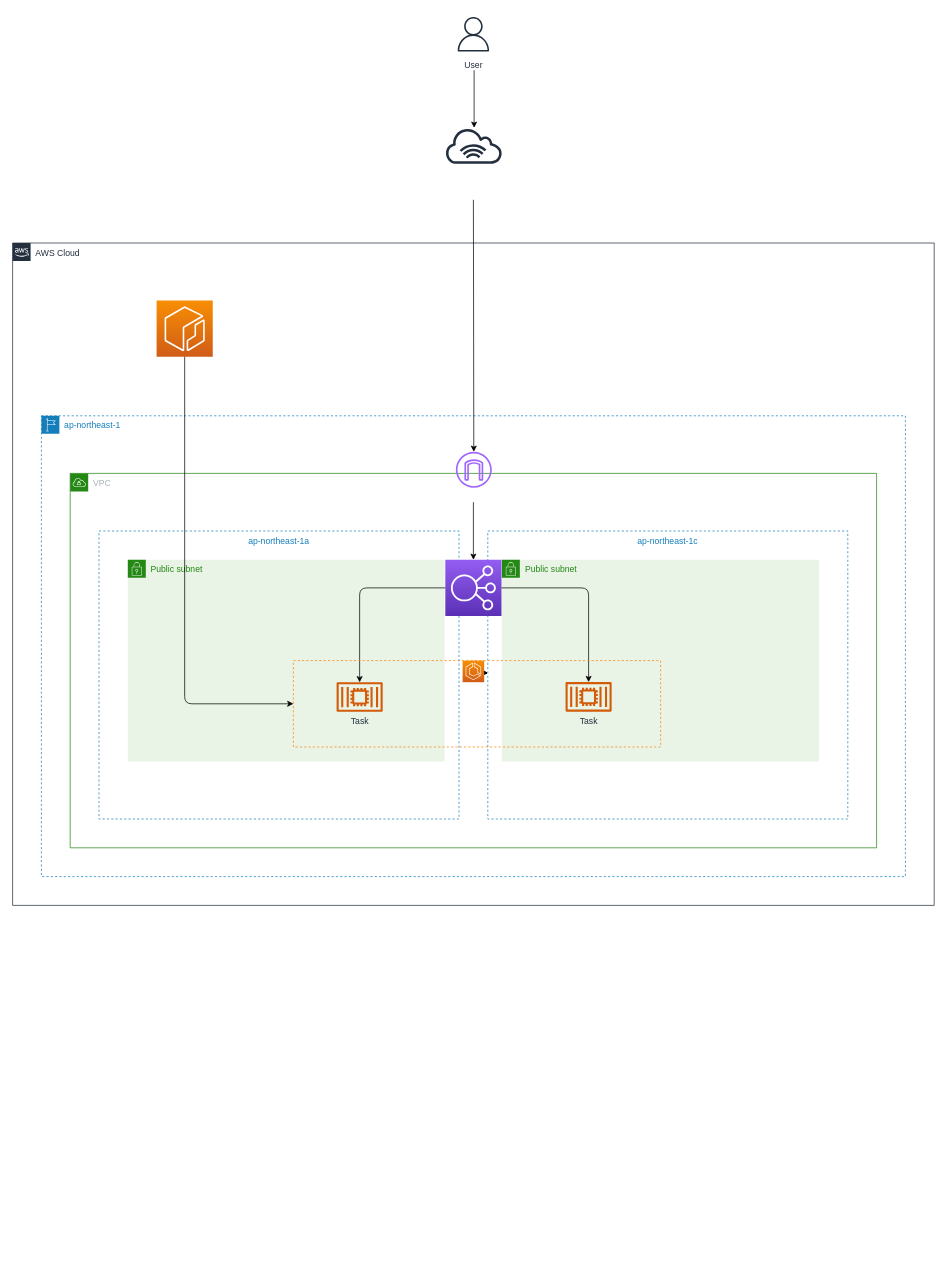
This 947x1269 diagram has some shape labels left out. The shapes that lost their labels are listed below. From the top down, each one's centre as x and y in pixels, then its label:
At (473,145): "Internet".
At (184,328): "ECR".
At (473,469): "Internet Gateway".
At (473,587): "ALB".
At (473,671): "ECS Cluster".
